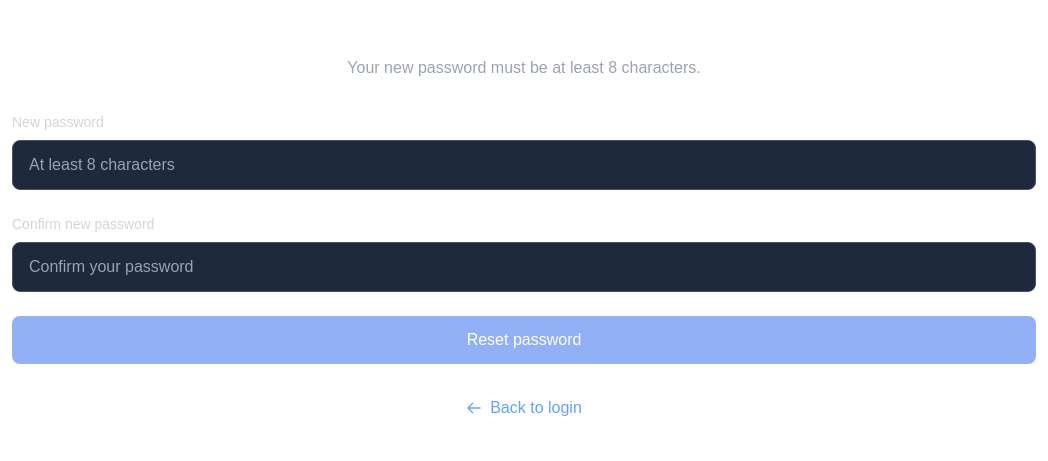
Scenario: ResetPasswordPage › AC4: Password Validation › shows error when passwords do not match
The width and height of the screenshot is (1048, 461).
Type "password123" into the password field labelled "New password".
click(524, 165); type("password123")  # box top-left (12, 140), bottom-right (1036, 190)
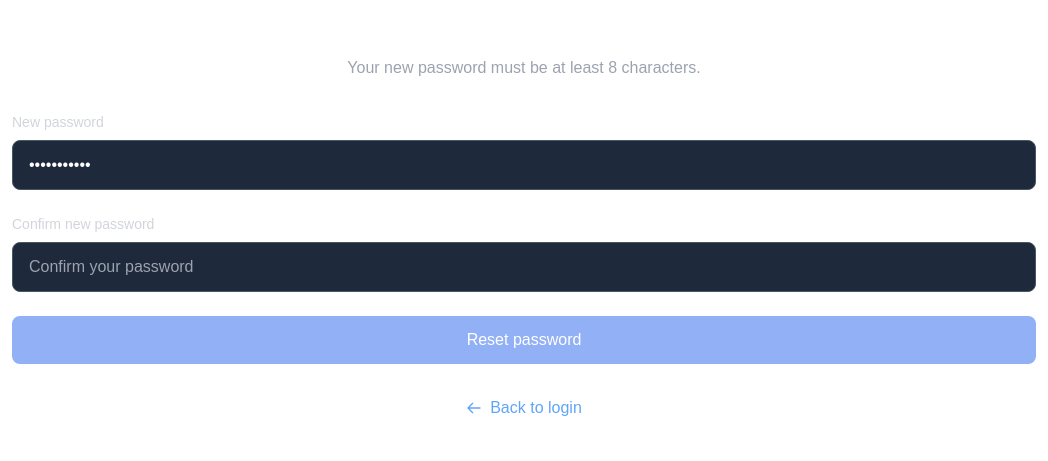
Type "different123" into the password field labelled "Confirm new password".
click(524, 267); type("different123")  # box top-left (12, 242), bottom-right (1036, 292)
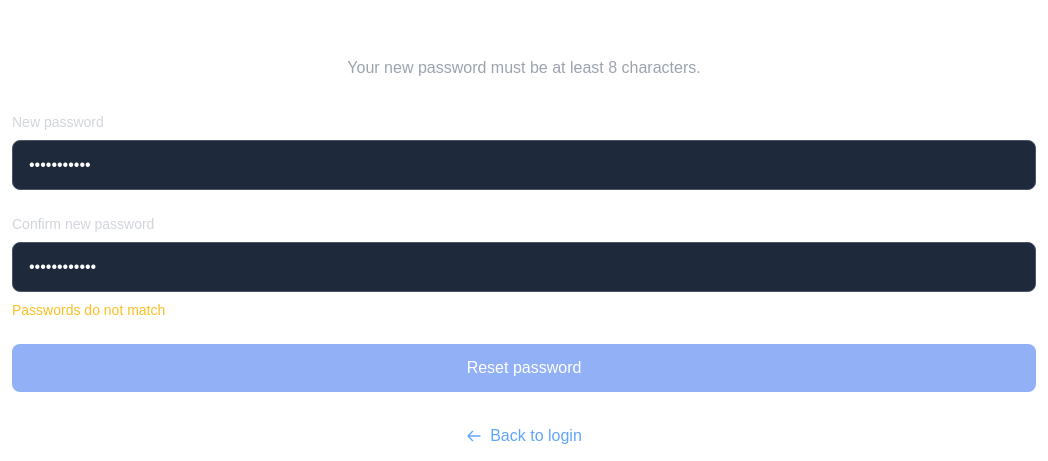
Now the text "Passwords do not match" is shown, box top-left (12, 302), bottom-right (165, 318)
